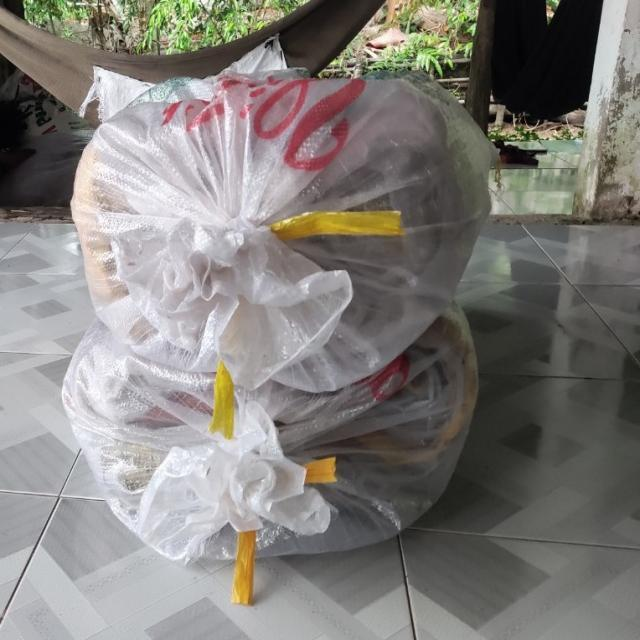gunny_bag: (71, 68, 493, 392), (61, 297, 486, 562)
